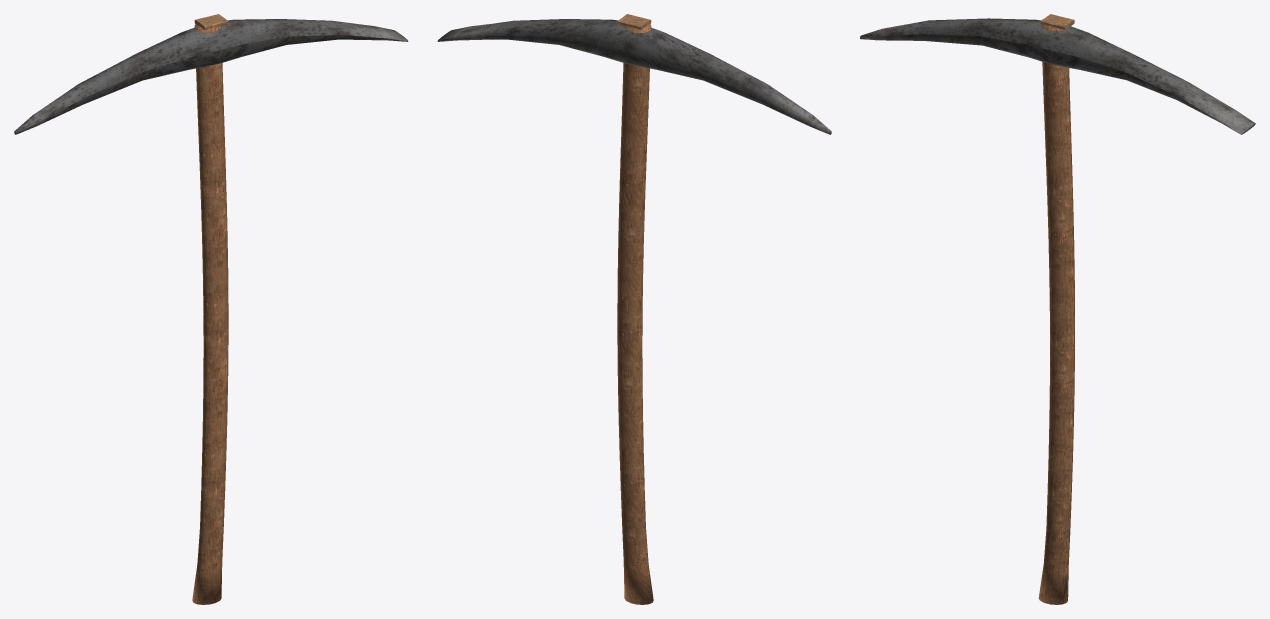
The model's file is b_tool_pick3.glb.
3 renders of one model, left to right at view 1: azimuth 30°, elevation 25°; view 2: azimuth 150°, elevation 25°; view 3: azimuth 330°, elevation 25°, orthographic.
Parts seen in each view (by area): view 1: b_tool_pick3; view 2: b_tool_pick3; view 3: b_tool_pick3.
Boxes of the visible parts, x1,y1,x2,y2 form: b_tool_pick3: (14, 14, 408, 604); b_tool_pick3: (437, 14, 831, 604); b_tool_pick3: (860, 14, 1255, 604).
Bounding box in the file's own units: 0.59 × 0.845 × 0.044.
2 materials, 2 textured.
